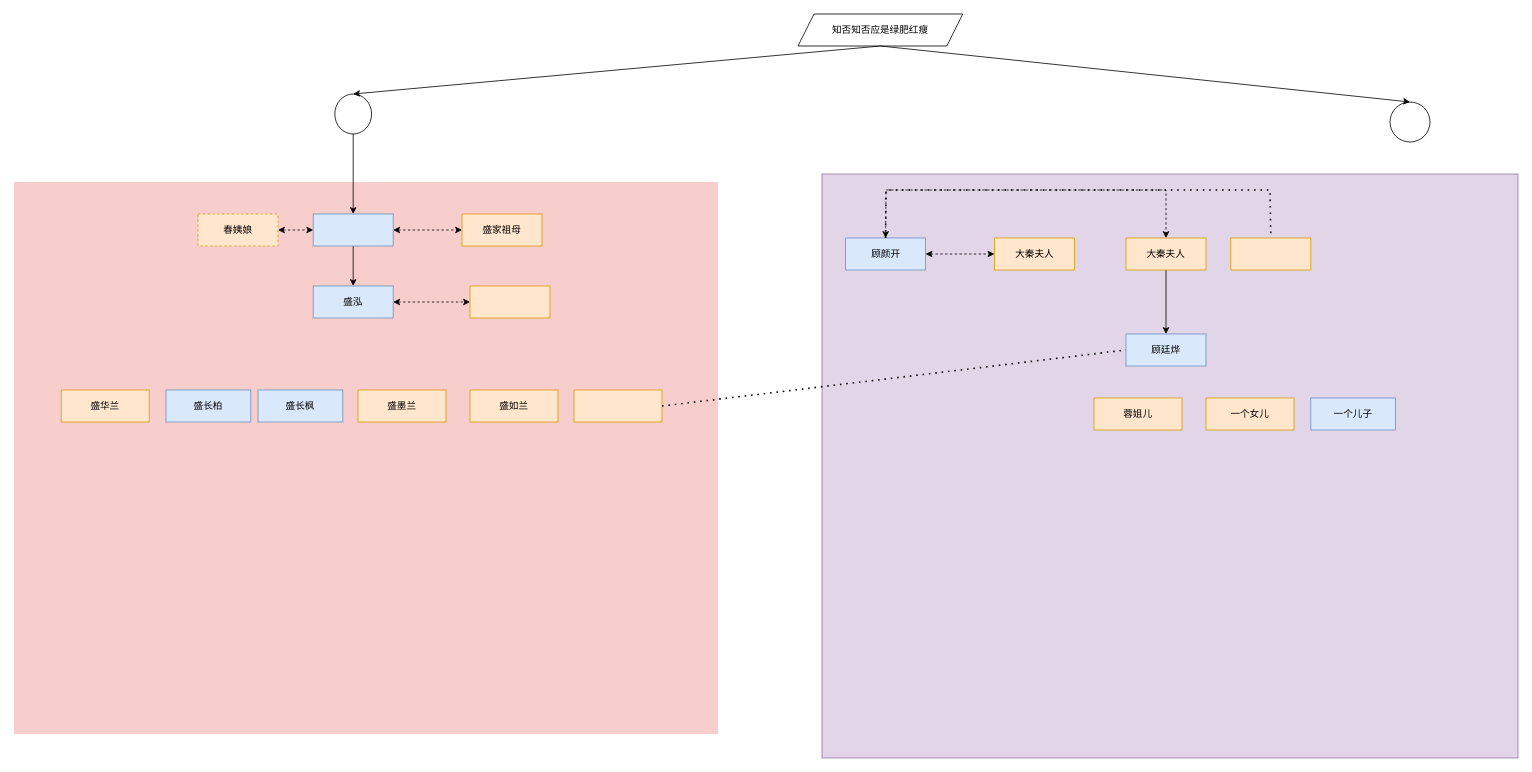
Image size: 1532x772. Some labels were removed from this diagram. The shapes that lost their labels are listed below. From the top down, each one's centre as x and y in pixels, then its label:
At point (353, 113): "盛家".
At point (1409, 121): "顾家".
At point (352, 229): "盛家祖父".
At point (1270, 253): "小秦夫人".
At point (509, 301): "王若弗".
At point (617, 405): "盛明兰".
